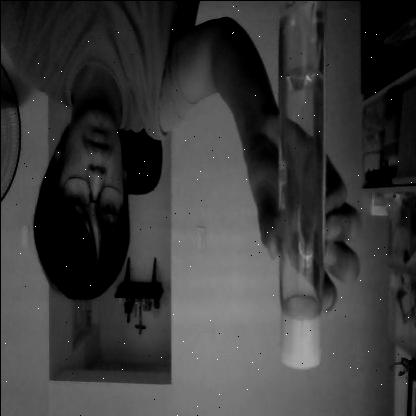Plastic Bottle: (263, 0, 334, 369)
